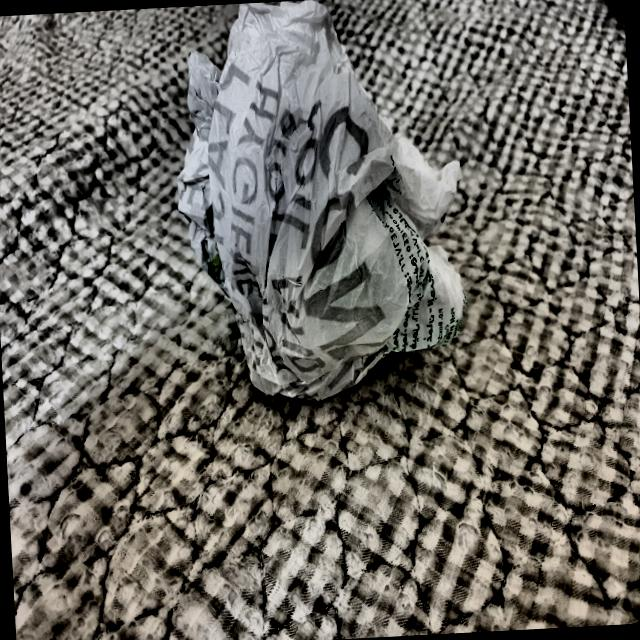plastic bag: (152, 0, 483, 434)
